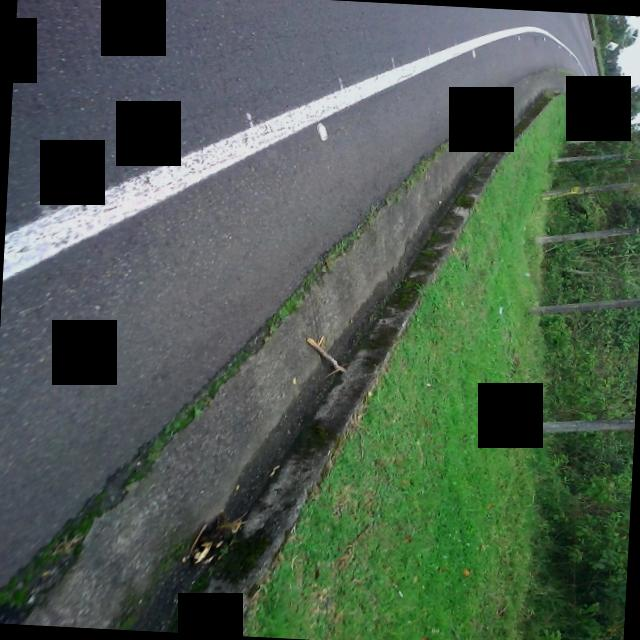DITCH: (0, 40, 607, 640), (0, 0, 568, 640), (0, 76, 591, 640)
